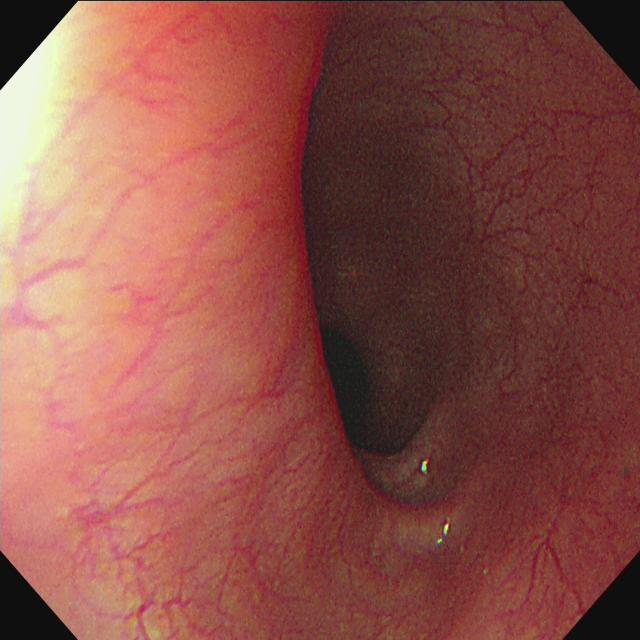U: (437, 518, 451, 546), (420, 459, 431, 477)
